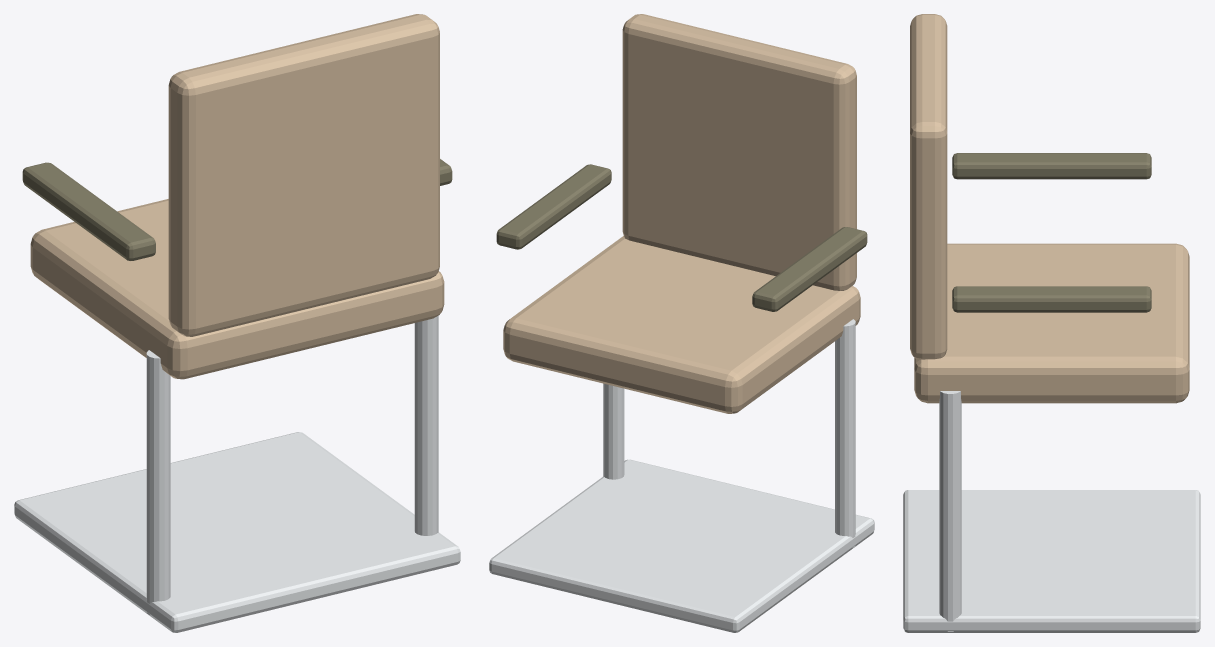
Rendered from office_storage___organization_asset_sheet_19.glb.
The picture shows the model from 3 angles, left to right: view 1: azimuth 30°, elevation 25°; view 2: azimuth 150°, elevation 25°; view 3: azimuth 270°, elevation 25°; orthographic projection. The views are drawn at different scales.
Parts seen in each view (by area): view 1: Cube; view 2: Cube; view 3: Cube.
Part boxes in pixels (bbox=[...]): Cube: bbox=[14, 14, 460, 632]; Cube: bbox=[489, 14, 874, 632]; Cube: bbox=[903, 14, 1200, 632].
Bounding box in the file's own units: 0.554 × 0.885 × 0.4756.
